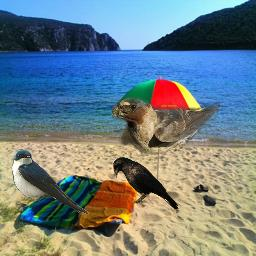Crow: (113, 157, 179, 209)
Swallow: (112, 97, 221, 156), (12, 149, 89, 215)
